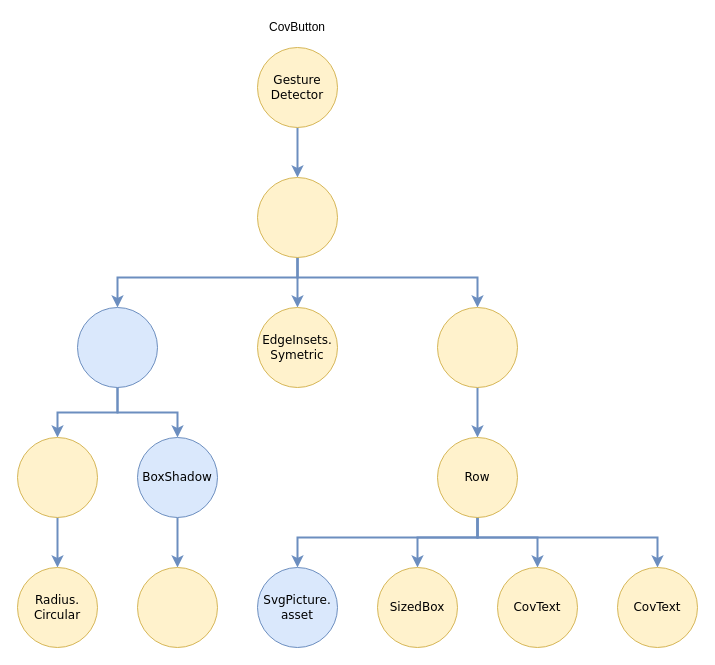
The diagram is 715 pixels wide and 665 high, and some of its shapes have lost their labels. Each missing label, with the centre of its shape:
Border Radius.all: (x=57, y=477)
Box Decoration: (x=117, y=347)
Center: (x=477, y=347)
Container: (x=297, y=217)
Offset: (x=177, y=607)
